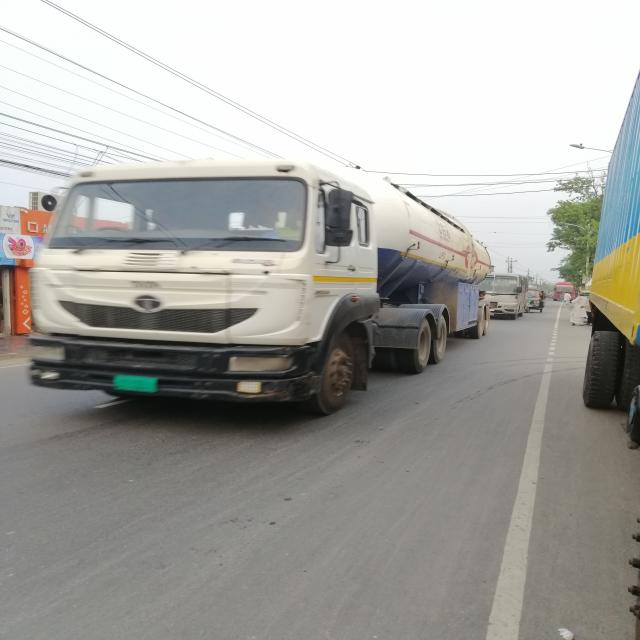Truck: (23, 157, 495, 411)
